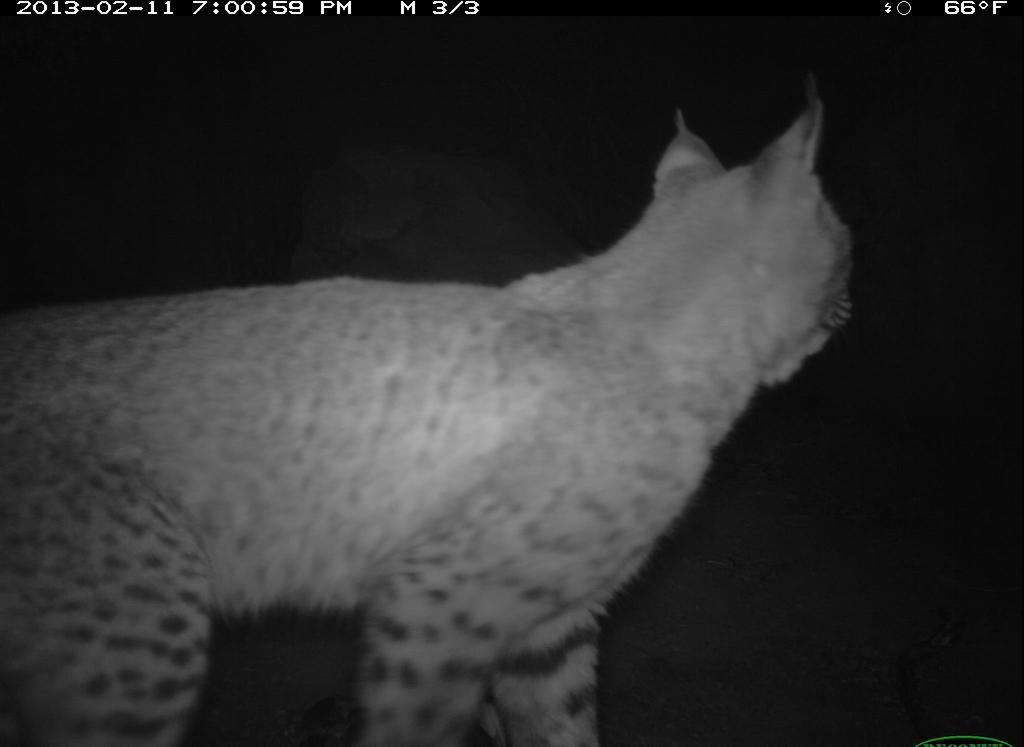bobcat: (2, 62, 885, 744)
